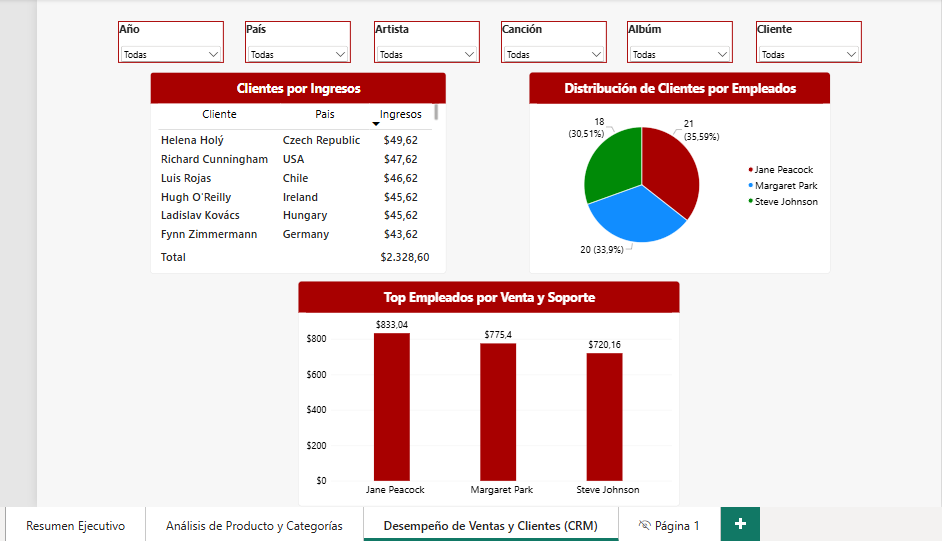

What the dashboard file says about the page in this screenshot:
{"tool":"powerbi","page":{"name":"Desempeño de Ventas y Clientes (CRM)","canvas":[1920,1080],"ordinal":2},"visuals":[{"type":"clusteredColumnChart","title":"Top Empleados por Venta y Soporte","fields":{"Category":["VW_DesempeñoEmpleados.NombreEmpleado"],"Y":["Sum(VW_Fact_VentasDetalle.MontoTotal)"]},"box":[555.3,600.3,811.6,478.9],"z":0},{"type":"tableEx","title":"Clientes por Ingresos","fields":{"Values":["VW_DesempeñoEmpleados.NombreCliente","VW_DesempeñoEmpleados.PaisCliente","Sum(VW_Fact_VentasDetalle.MontoTotal)"]},"box":[240.6,155.1,629.5,429.4],"z":1000},{"type":"pieChart","title":"Distribución de Clientes por Empleados","fields":{"Category":["VW_DesempeñoEmpleados.NombreEmpleado"],"Y":["Count(VW_Fact_VentasDetalle.NombreCliente)"]},"box":[1045.4,155.1,640.7,429.4],"z":2000},{"type":"slicer","title":"Año","fields":{"Values":["VW_Fact_VentasDetalle.FechaFactura.Variación.Jerarquía de fechas.Año","VW_Fact_VentasDetalle.FechaFactura.Variación.Jerarquía de fechas.Mes"]},"box":[173.1,47.2,225.4,89.3],"z":3000},{"type":"slicer","title":"País","fields":{"Values":["VW_Fact_VentasDetalle.PaisCliente"]},"box":[442.9,47.2,225.4,89.3],"z":4000},{"type":"slicer","title":"Artista","fields":{"Values":["VW_Fact_VentasDetalle.NombreArtista Jerarquía.Artista"]},"box":[717.2,47.2,225.4,89.3],"z":5000},{"type":"slicer","title":"Canción","fields":{"Values":["VW_Fact_VentasDetalle.NombreArtista Jerarquía.Canción"]},"box":[987,47.2,225.4,89.3],"z":6000},{"type":"slicer","title":"Albúm","fields":{"Values":["VW_Fact_VentasDetalle.NombreArtista Jerarquía.Albúm"]},"box":[1254.5,47.2,225.4,89.3],"z":7000},{"type":"slicer","title":"Cliente","fields":{"Values":["VW_DesempeñoEmpleados.NombreCliente"]},"box":[1528.8,47.2,225.4,89.3],"z":8000}]}

Visuals, with their boxes on the page's 1920x1080 design canvas (x1, y1, x2, y2). These are canvas units, not pixel positions in the 942x541 screenshot, which may show the page scaled, cropped or inside an application window:
"Top Empleados por Venta y Soporte" clusteredColumnChart: [left=555, top=600, right=1367, bottom=1079]
"Clientes por Ingresos" tableEx: [left=241, top=155, right=870, bottom=584]
"Distribución de Clientes por Empleados" pieChart: [left=1045, top=155, right=1686, bottom=584]
"Año" slicer: [left=173, top=47, right=398, bottom=136]
"País" slicer: [left=443, top=47, right=668, bottom=136]
"Artista" slicer: [left=717, top=47, right=943, bottom=136]
"Canción" slicer: [left=987, top=47, right=1212, bottom=136]
"Albúm" slicer: [left=1254, top=47, right=1480, bottom=136]
"Cliente" slicer: [left=1529, top=47, right=1754, bottom=136]
